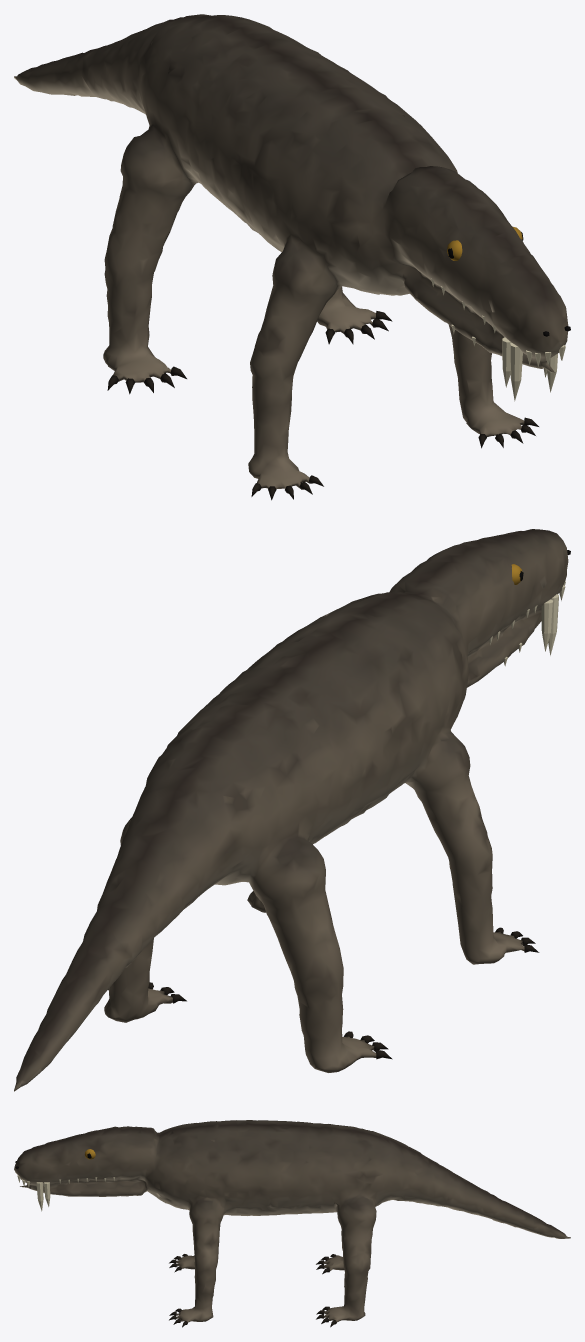
Rendered from Lycosuchus.fbx.
3 views of the same model, one above another, from view 1: azimuth 30°, elevation 25°; view 2: azimuth 150°, elevation 25°; view 3: azimuth 270°, elevation 25° (orthographic). The views are drawn at different scales.
Visible parts, largest first — view 1: Lycosuchus; view 2: Lycosuchus; view 3: Lycosuchus.
Boxes of the visible parts, x1=… form: Lycosuchus: x1=14, y1=14, x2=570, y2=500; Lycosuchus: x1=14, y1=529, x2=570, y2=1091; Lycosuchus: x1=14, y1=1120, x2=570, y2=1327.
Size of the model in its own units: 0.4841 by 0.5333 by 1.59.
